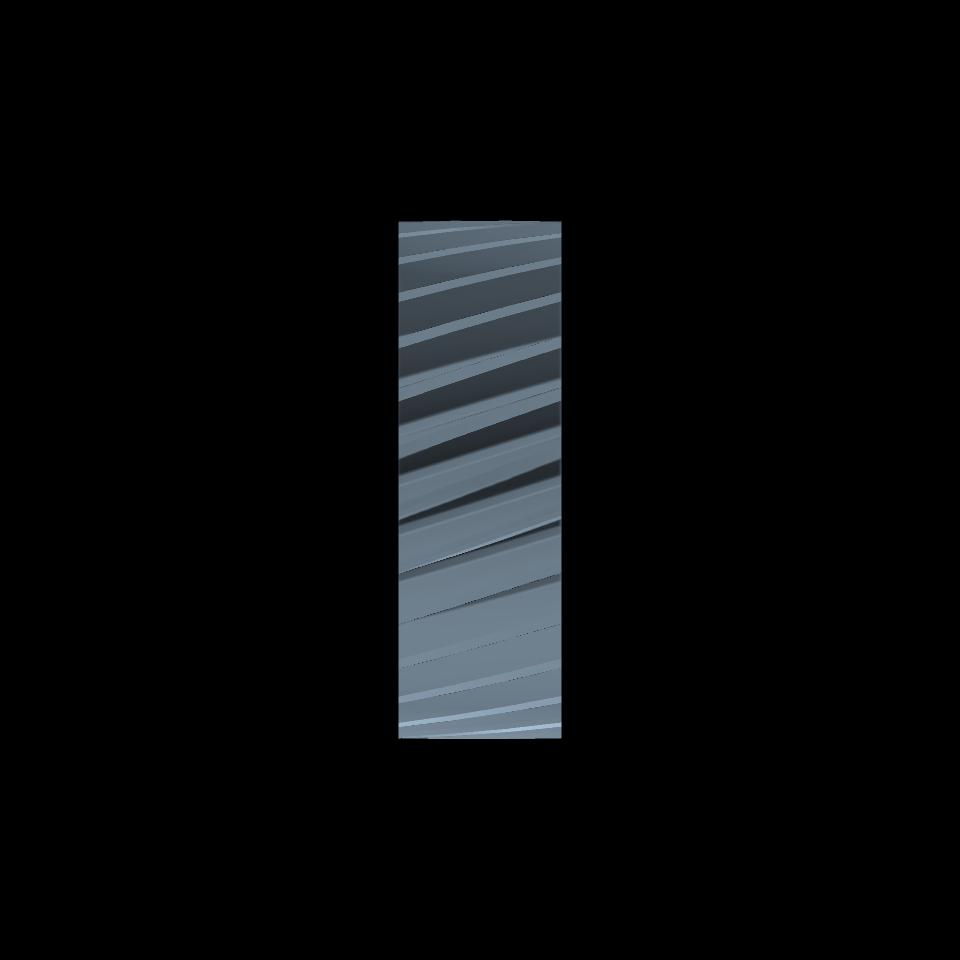Helical: (398, 221, 560, 737)
